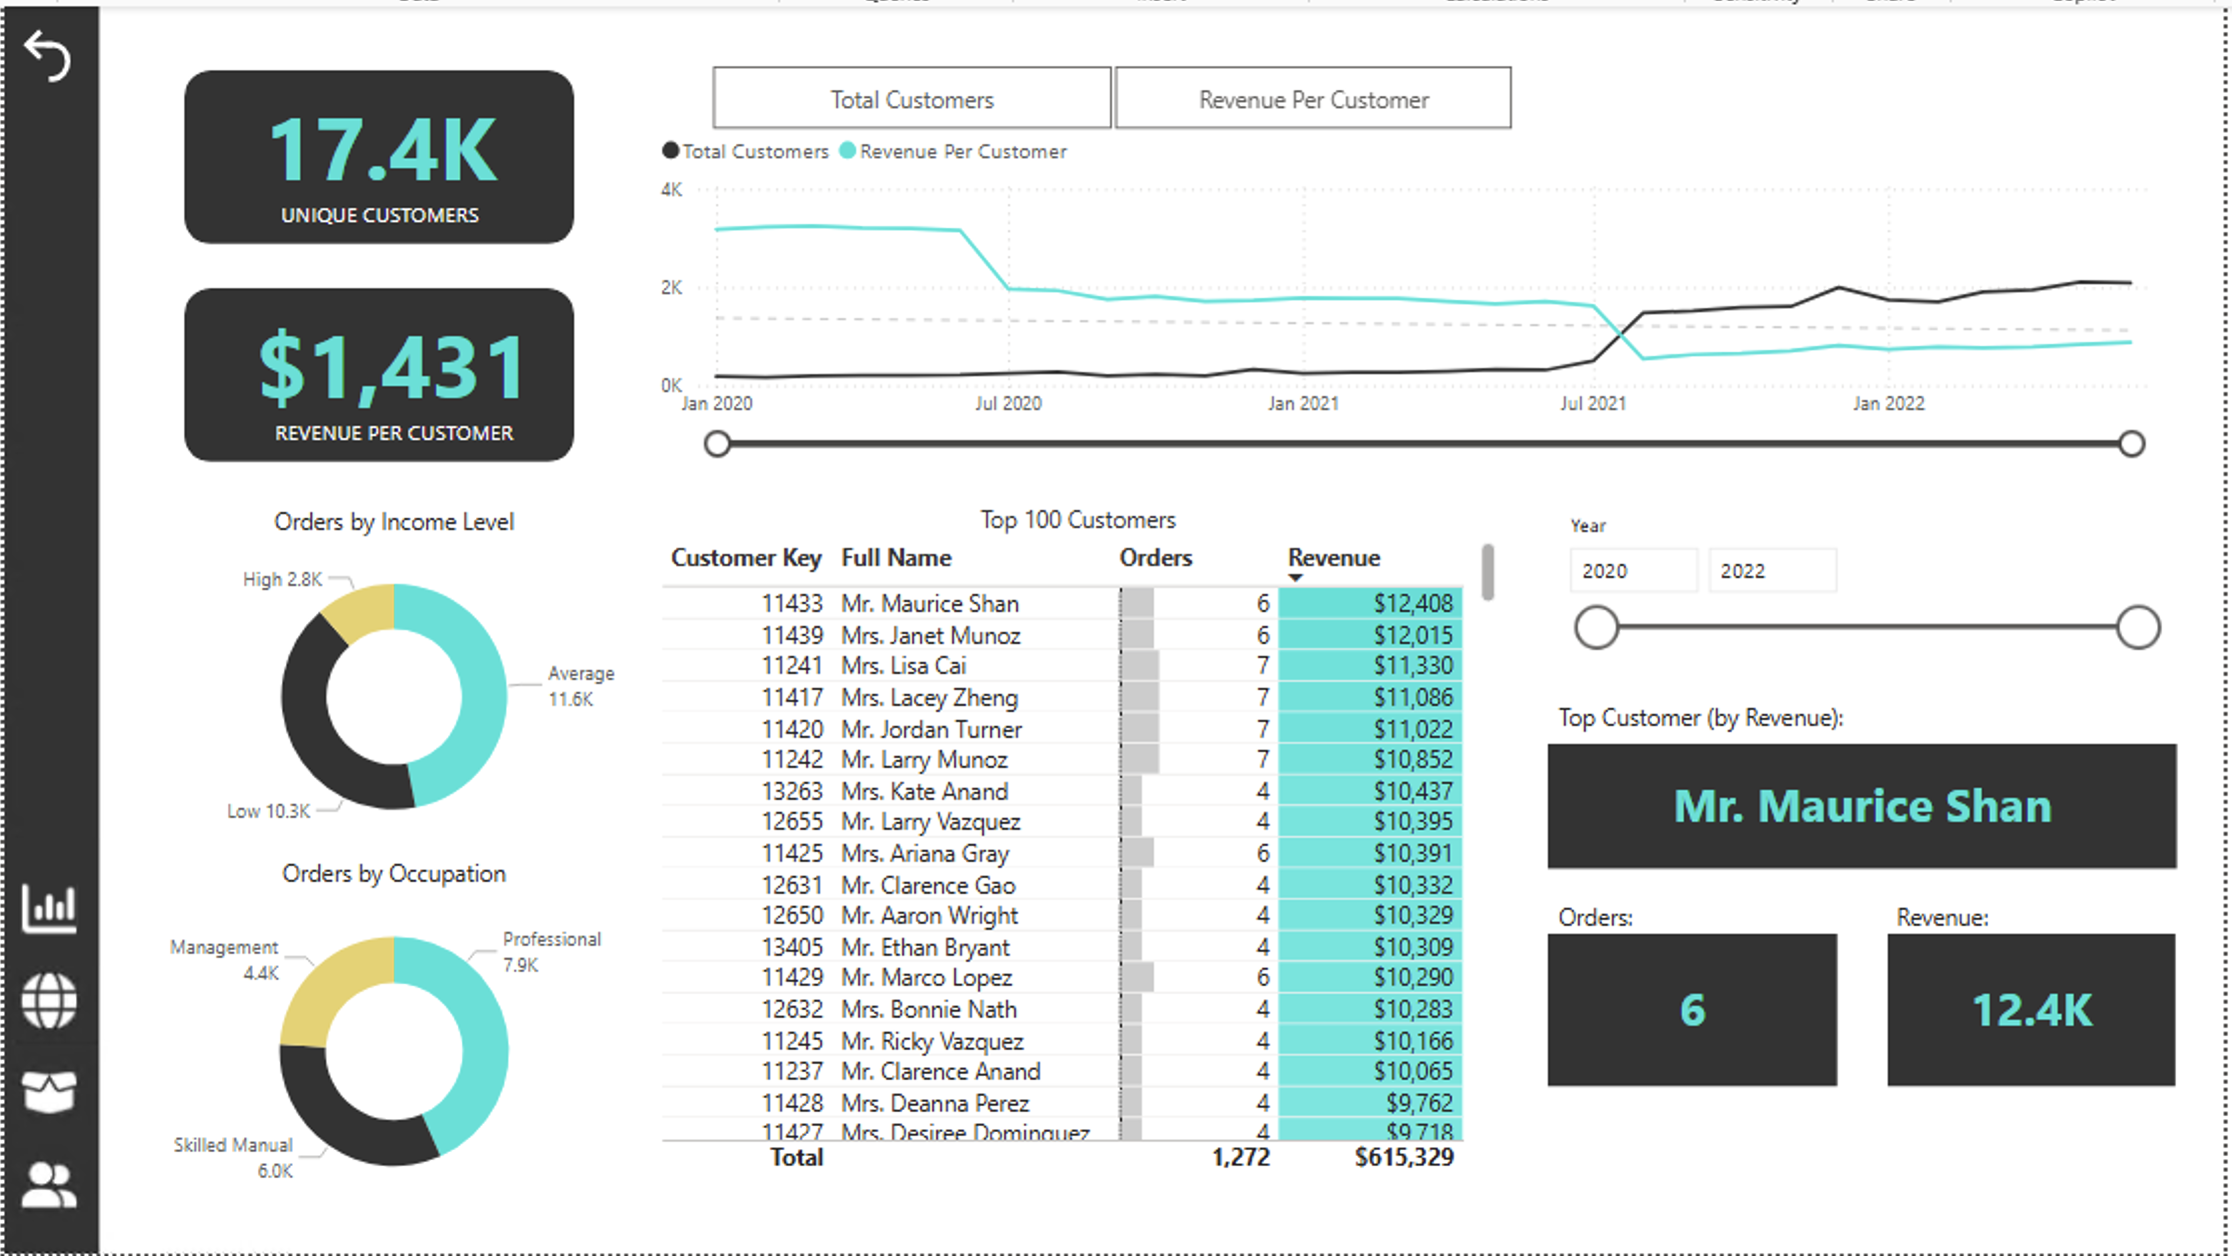

Layout of this report page (visuals, bound fields, positions):
{"tool":"powerbi","page":{"name":"Customer Detail","canvas":[1280,720],"ordinal":3},"visuals":[{"type":"shape","box":[0,0,45,720],"z":0},{"type":"actionButton","box":[2.5,516.7,45.6,37.8],"z":0,"group":"g1"},{"type":"shape","box":[81.7,30,225,100],"z":1000},{"type":"actionButton","box":[3.3,563.4,45.6,37.8],"z":1000,"group":"g1"},{"type":"shape","box":[80,152.7,225,100],"z":2000},{"type":"actionButton","box":[3.3,611.1,45.6,37.8],"z":2000,"group":"g1"},{"type":"card","fields":{"Values":["Measure Table.Total Customers"]},"box":[66.7,0,256.2,150],"z":3000},{"type":"actionButton","box":[3.3,657.8,45.6,37.8],"z":3000,"group":"g1"},{"type":"card","fields":{"Values":["Measure Table.Average Revenue per Customer"]},"box":[65,122.7,256.2,150],"z":4000},{"type":"lineChart","fields":{"Y":["Measure Table.Total Customers"],"Category":["Calendar Lookup.Date Hierarchy.Year","Calendar Lookup.Date Hierarchy.Start of Month","Calendar Lookup.Date Hierarchy.Start of Week","Calendar Lookup.Date Hierarchy.Date"]},"box":[345.9,63.3,898.6,188.8],"z":5000},{"type":"donutChart","title":"Orders by Income Level","fields":{"Category":["Customer Lookup.Income Level"],"Y":["Measure Table.Total Orders"]},"box":[63.8,272.5,257.5,210],"z":6000},{"type":"donutChart","title":"Orders by Occupation","fields":{"Y":["Measure Table.Total Orders"],"Category":["Customer Lookup.Occupation"]},"box":[63.8,490,257.5,210],"z":7000},{"type":"tableEx","title":"Top 100 Customers","fields":{"Values":["Customer Lookup.CustomerKey","Customer Lookup.Full Name","Measure Table.Total Orders","Measure Table.Total Revenue"]},"box":[346,273.6,449.4,418.4],"z":8000},{"type":"card","fields":{"Values":["Min(Customer Lookup.Full Name)"]},"box":[829.6,390.1,414.5,65.1],"z":9000},{"type":"card","fields":{"Values":["Measure Table.Total Orders"]},"box":[829.6,487,190.7,65.1],"z":10000},{"type":"card","fields":{"Values":["Measure Table.Total Revenue"]},"box":[1048.7,487,195.4,65.1],"z":11000},{"type":"textbox","box":[829.6,361.7,190.7,37.9],"z":12000},{"type":"textbox","box":[829.6,458.4,190.7,37.9],"z":13000},{"type":"textbox","box":[1048.7,458.4,190.7,37.9],"z":14000},{"type":"slicer","fields":{"Values":["Calendar Lookup.Year"]},"box":[811.6,272.4,432.9,80.3],"z":15000},{"type":"actionButton","box":[830,586.7,410,56.7],"z":16000},{"type":"actionButton","box":[3.3,5.6,35.6,35.6],"z":17000},{"type":"group","id":"g1","title":"Navigation Buttons","box":[2.5,516.7,46.4,178.9],"z":18000},{"type":"slicer","fields":{"Values":["Customer Metric Selection.Customer Metric Selection"]},"box":[323.3,27.1,415.9,36.2],"z":19000}]}

Visuals, with their boxes on the page's 1280x720 design canvas (x1, y1, x2, y2). These are canvas units, not pixel positions in the 2232x1256 screenshot, which may show the page scaled, cropped or inside an application window:
shape: BBox(0, 0, 45, 720)
actionButton: BBox(2, 517, 48, 554)
shape: BBox(82, 30, 307, 130)
actionButton: BBox(3, 563, 49, 601)
shape: BBox(80, 153, 305, 253)
actionButton: BBox(3, 611, 49, 649)
card - Measure Table.Total Customers: BBox(67, 0, 323, 150)
actionButton: BBox(3, 658, 49, 696)
card - Measure Table.Average Revenue per Customer: BBox(65, 123, 321, 273)
lineChart - Measure Table.Total Customers x Calendar Lookup.Date Hierarchy.Year: BBox(346, 63, 1244, 252)
"Orders by Income Level" donutChart: BBox(64, 272, 321, 482)
"Orders by Occupation" donutChart: BBox(64, 490, 321, 700)
"Top 100 Customers" tableEx: BBox(346, 274, 795, 692)
card - Min(Customer Lookup.Full Name): BBox(830, 390, 1244, 455)
card - Measure Table.Total Orders: BBox(830, 487, 1020, 552)
card - Measure Table.Total Revenue: BBox(1049, 487, 1244, 552)
textbox: BBox(830, 362, 1020, 400)
textbox: BBox(830, 458, 1020, 496)
textbox: BBox(1049, 458, 1239, 496)
slicer - Calendar Lookup.Year: BBox(812, 272, 1244, 353)
actionButton: BBox(830, 587, 1240, 643)
actionButton: BBox(3, 6, 39, 41)
"Navigation Buttons" group: BBox(2, 517, 49, 696)
slicer - Customer Metric Selection.Customer Metric Selection: BBox(323, 27, 739, 63)
